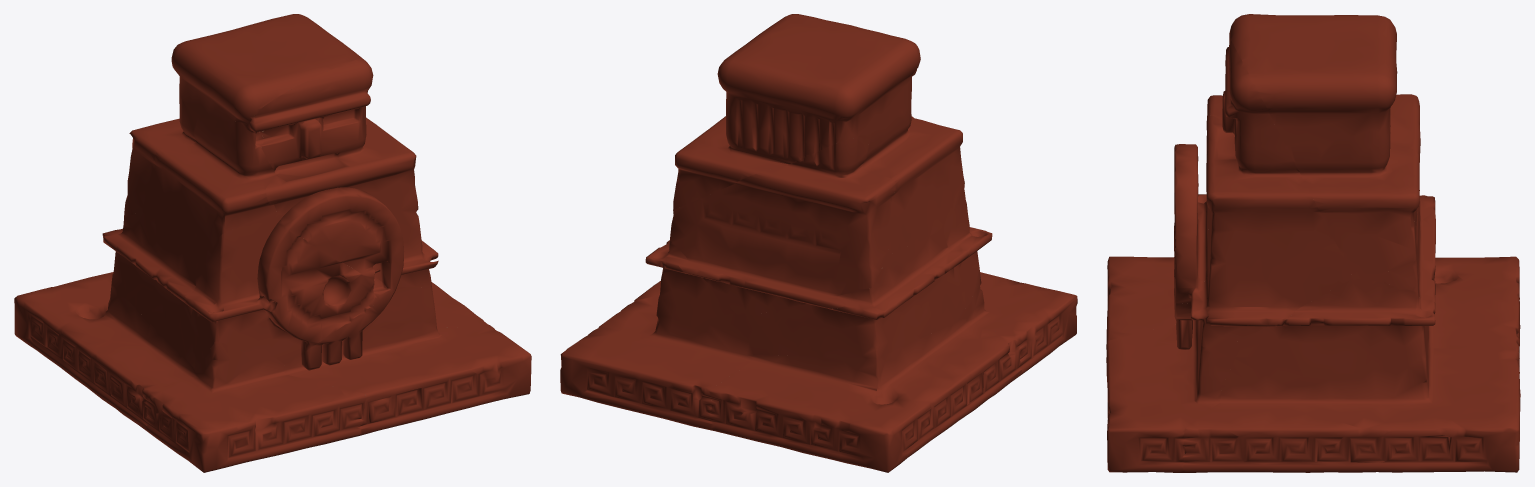
Rendered from pawn.glb.
3 views of the same model, side by side, from view 1: azimuth 30°, elevation 25°; view 2: azimuth 150°, elevation 25°; view 3: azimuth 270°, elevation 25° (orthographic). The views are drawn at different scales.
Visible parts, largest first — view 1: chunk_03, chunk_02, chunk_08, chunk_05, chunk_00, chunk_04, chunk_10, chunk_01, chunk_09, chunk_07; view 2: chunk_00, chunk_09, chunk_10, chunk_07, chunk_01, chunk_04, chunk_05, chunk_08; view 3: chunk_07, chunk_10, chunk_03, chunk_02, chunk_00, chunk_05, chunk_09, chunk_08, chunk_06.
Part boxes in pixels (x1,y1,x2,y2): chunk_03: [249, 58, 438, 292]; chunk_02: [284, 287, 531, 435]; chunk_08: [185, 212, 391, 369]; chunk_05: [145, 341, 366, 472]; chunk_00: [14, 272, 195, 430]; chunk_04: [142, 118, 278, 263]; chunk_10: [171, 14, 368, 131]; chunk_01: [102, 211, 195, 368]; chunk_09: [124, 95, 195, 217]; chunk_07: [431, 282, 494, 328]; chunk_00: [710, 317, 1021, 472]; chunk_09: [670, 137, 895, 317]; chunk_10: [673, 15, 920, 210]; chunk_07: [560, 239, 753, 430]; chunk_01: [739, 229, 968, 358]; chunk_04: [861, 72, 962, 255]; chunk_05: [967, 267, 1077, 374]; chunk_08: [943, 166, 992, 317]; chunk_07: [1183, 278, 1520, 472]; chunk_10: [1229, 14, 1419, 278]; chunk_03: [1174, 38, 1353, 348]; chunk_02: [1106, 297, 1221, 472]; chunk_00: [1428, 256, 1520, 366]; chunk_05: [1106, 256, 1176, 343]; chunk_09: [1367, 94, 1435, 302]; chunk_08: [1174, 194, 1209, 310]; chunk_06: [1210, 339, 1244, 386].
Bounding box in the file's own units: 0.6421 × 0.5997 × 0.6435.
